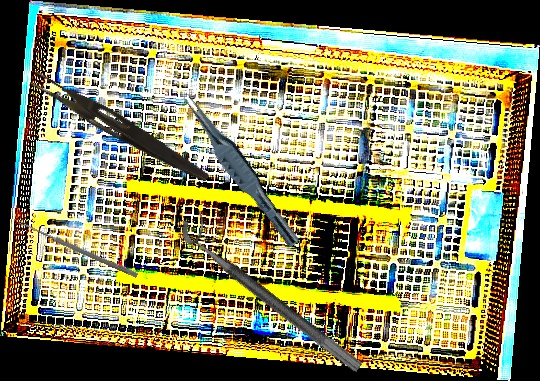Dressing Forceps: (25, 69, 215, 186)
Fixation Ring: (174, 207, 375, 374)
Surgical Spoon: (18, 220, 139, 278)
Tissue Forceps: (173, 90, 309, 249)
